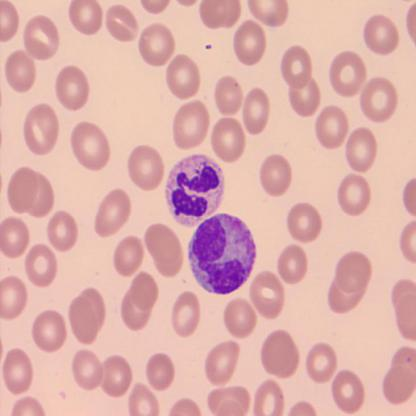Monocyte: (187, 210, 256, 296)
